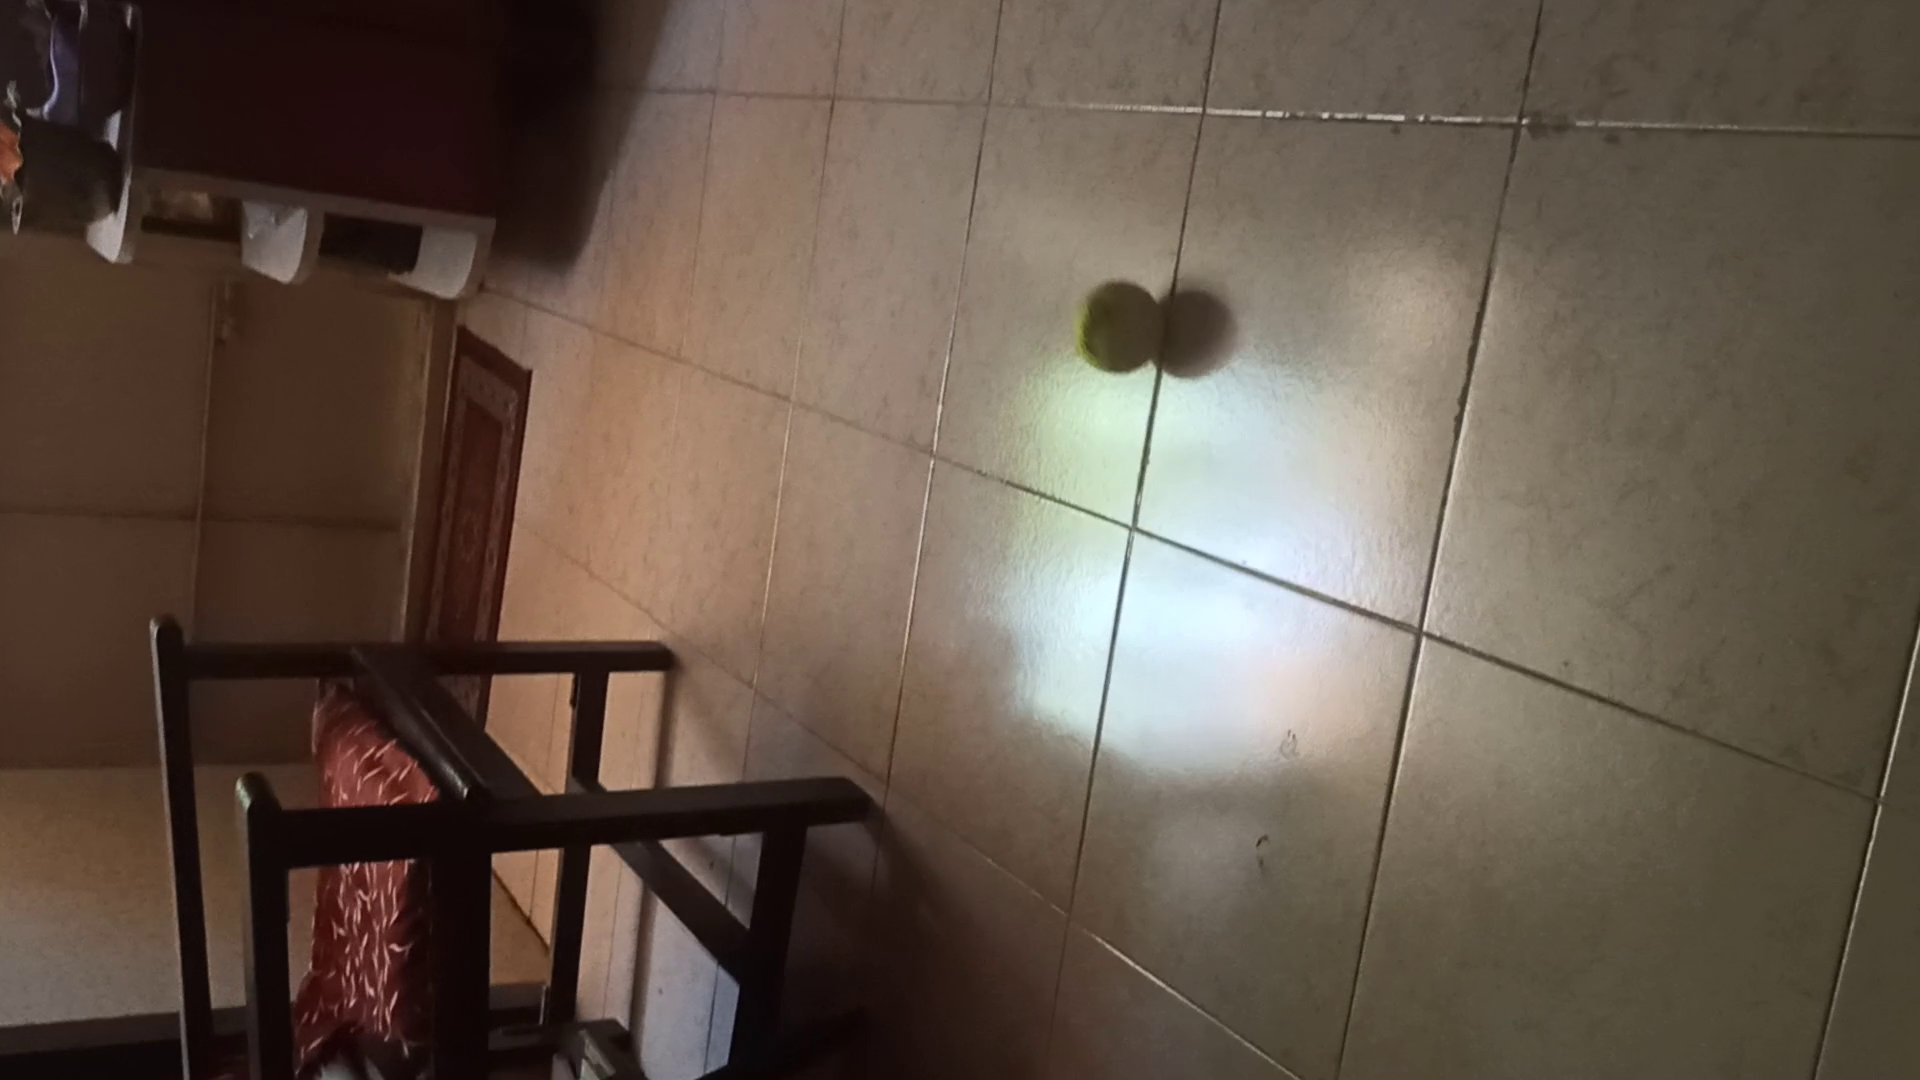Tennis-Ball: (1071, 278, 1168, 376)
